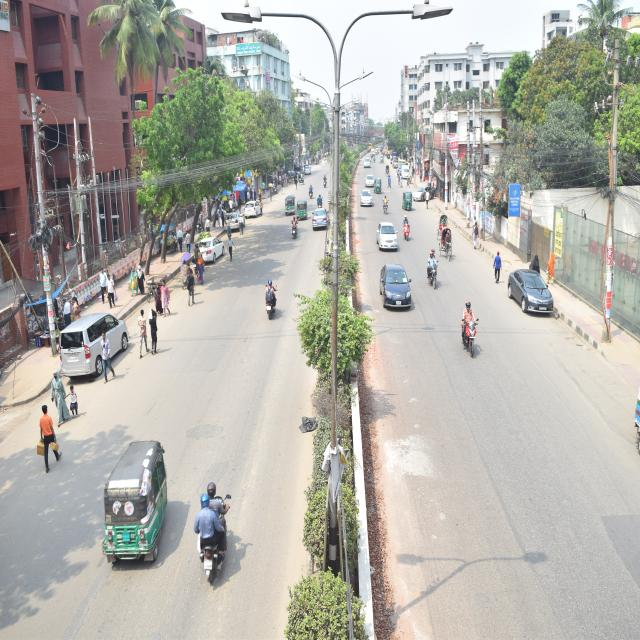car: (57, 311, 132, 380), (506, 263, 559, 316), (379, 264, 416, 312), (193, 232, 229, 264), (374, 216, 402, 255), (220, 211, 248, 234), (309, 205, 331, 232), (412, 184, 437, 206), (241, 197, 264, 218), (360, 185, 374, 211), (366, 173, 376, 189)
motorbike: (195, 491, 234, 586), (460, 308, 480, 356), (262, 282, 282, 322), (426, 247, 442, 288), (403, 213, 416, 246), (290, 215, 302, 240), (381, 197, 392, 216)
